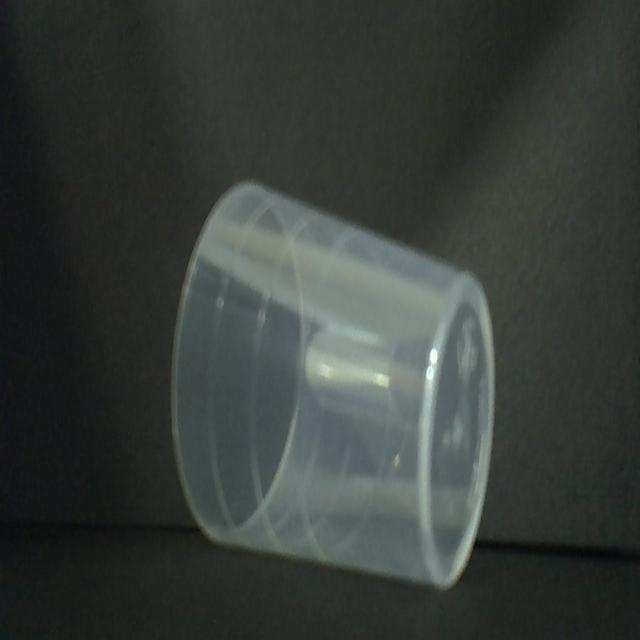cup: (168, 168, 500, 594)
